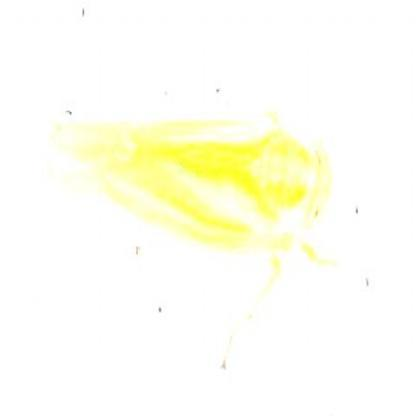green-leafhopper: (47, 126, 338, 257)
